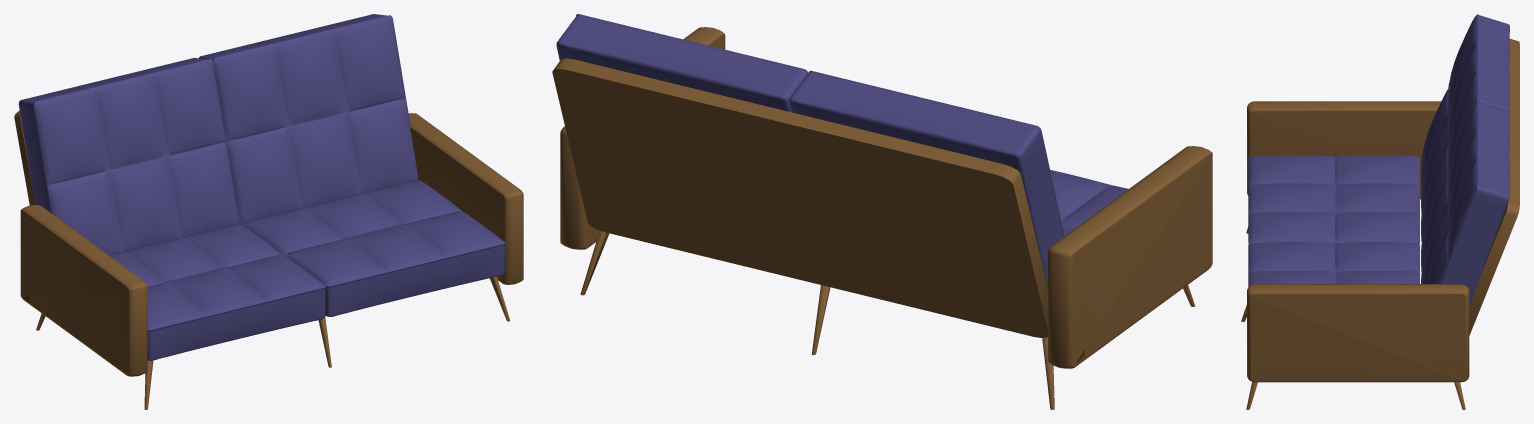
Rendered from SofaAzul.fbx.
3 renders of one model, left to right at view 1: azimuth 30°, elevation 25°; view 2: azimuth 150°, elevation 25°; view 3: azimuth 270°, elevation 25°, orthographic. The views are drawn at different scales.
Visible parts, largest first — view 1: patas.001; view 2: patas.001; view 3: patas.001.
Part boxes in pixels (x1=…): patas.001: x1=14, y1=14, x2=523, y2=409; patas.001: x1=552, y1=14, x2=1212, y2=409; patas.001: x1=1241, y1=14, x2=1519, y2=409.
Bounding box in the file's own units: 211 × 113 × 129.
